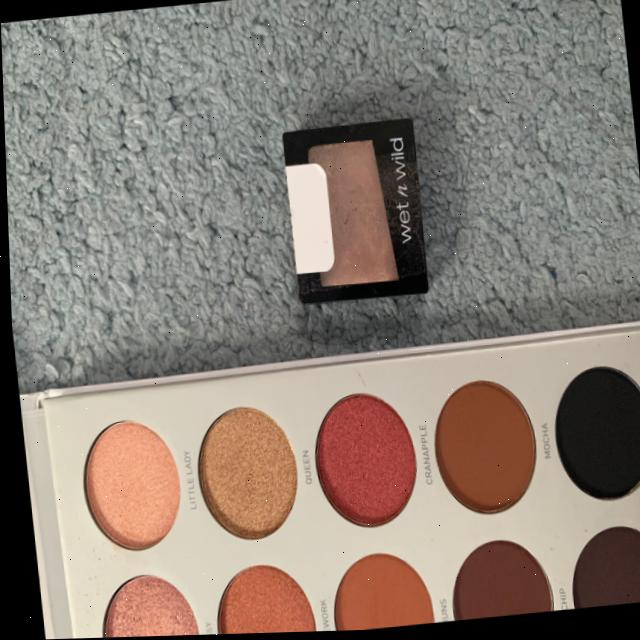eye shade: (60, 408, 195, 569), (421, 365, 543, 536), (180, 393, 310, 551), (296, 387, 423, 539), (538, 352, 640, 517), (435, 538, 564, 624), (311, 549, 441, 633), (199, 546, 315, 636), (77, 561, 201, 639), (549, 521, 640, 613)
lip shade: (269, 112, 442, 316)
